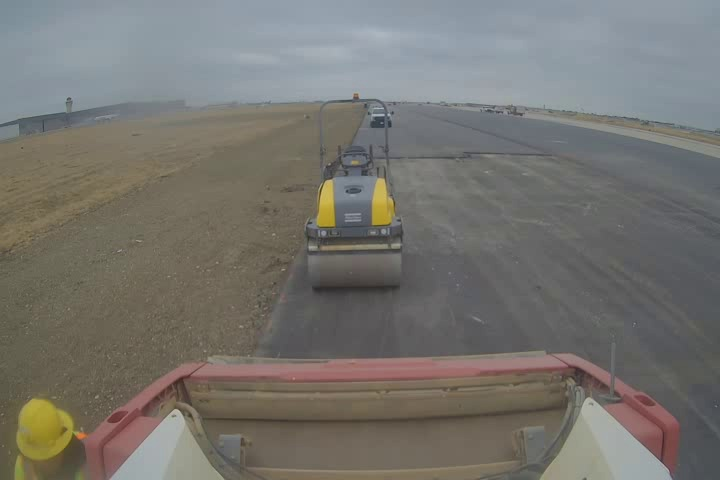person: (14, 393, 86, 480)
vehicle: (86, 348, 683, 477), (307, 97, 404, 287), (354, 109, 382, 136)
vest: (17, 435, 83, 480)
yellow_helmet: (16, 394, 73, 460)
